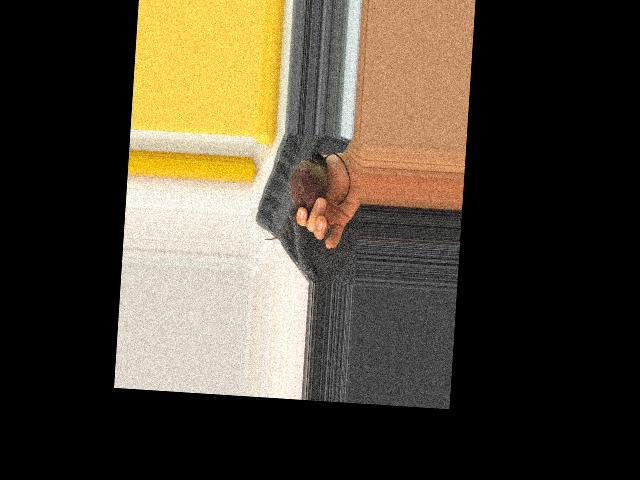beet: (264, 150, 352, 245)
